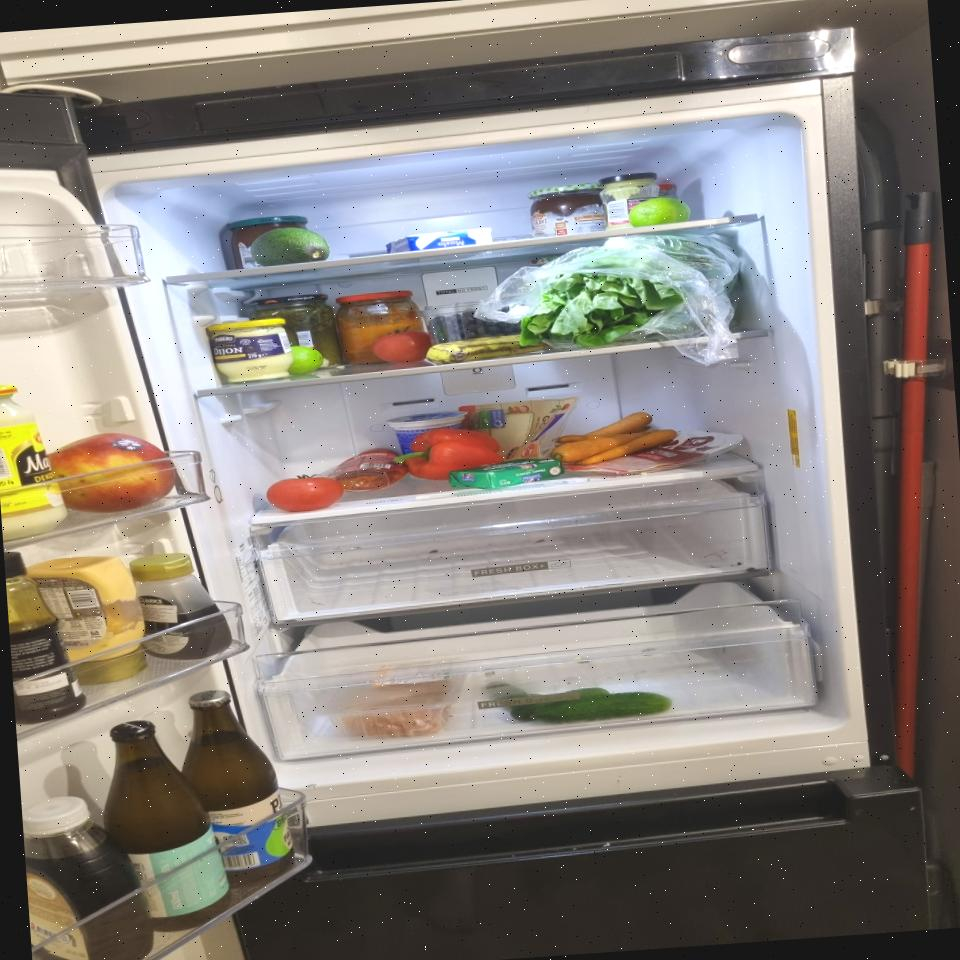Aguacate: (249, 224, 331, 268)
Carne pollo: (314, 654, 474, 743)
Lechuga/Endivia: (512, 228, 745, 354)
Mantequilla: (384, 226, 496, 266), (447, 456, 564, 493)
Manzana: (44, 427, 180, 517)
Pepino: (485, 670, 672, 728)
Plátano: (425, 332, 550, 366)
Queso: (458, 397, 584, 463)
Tomate: (264, 472, 345, 514), (370, 324, 432, 364)
Yogur: (386, 410, 472, 456)
Zanahoria: (546, 410, 680, 468)
